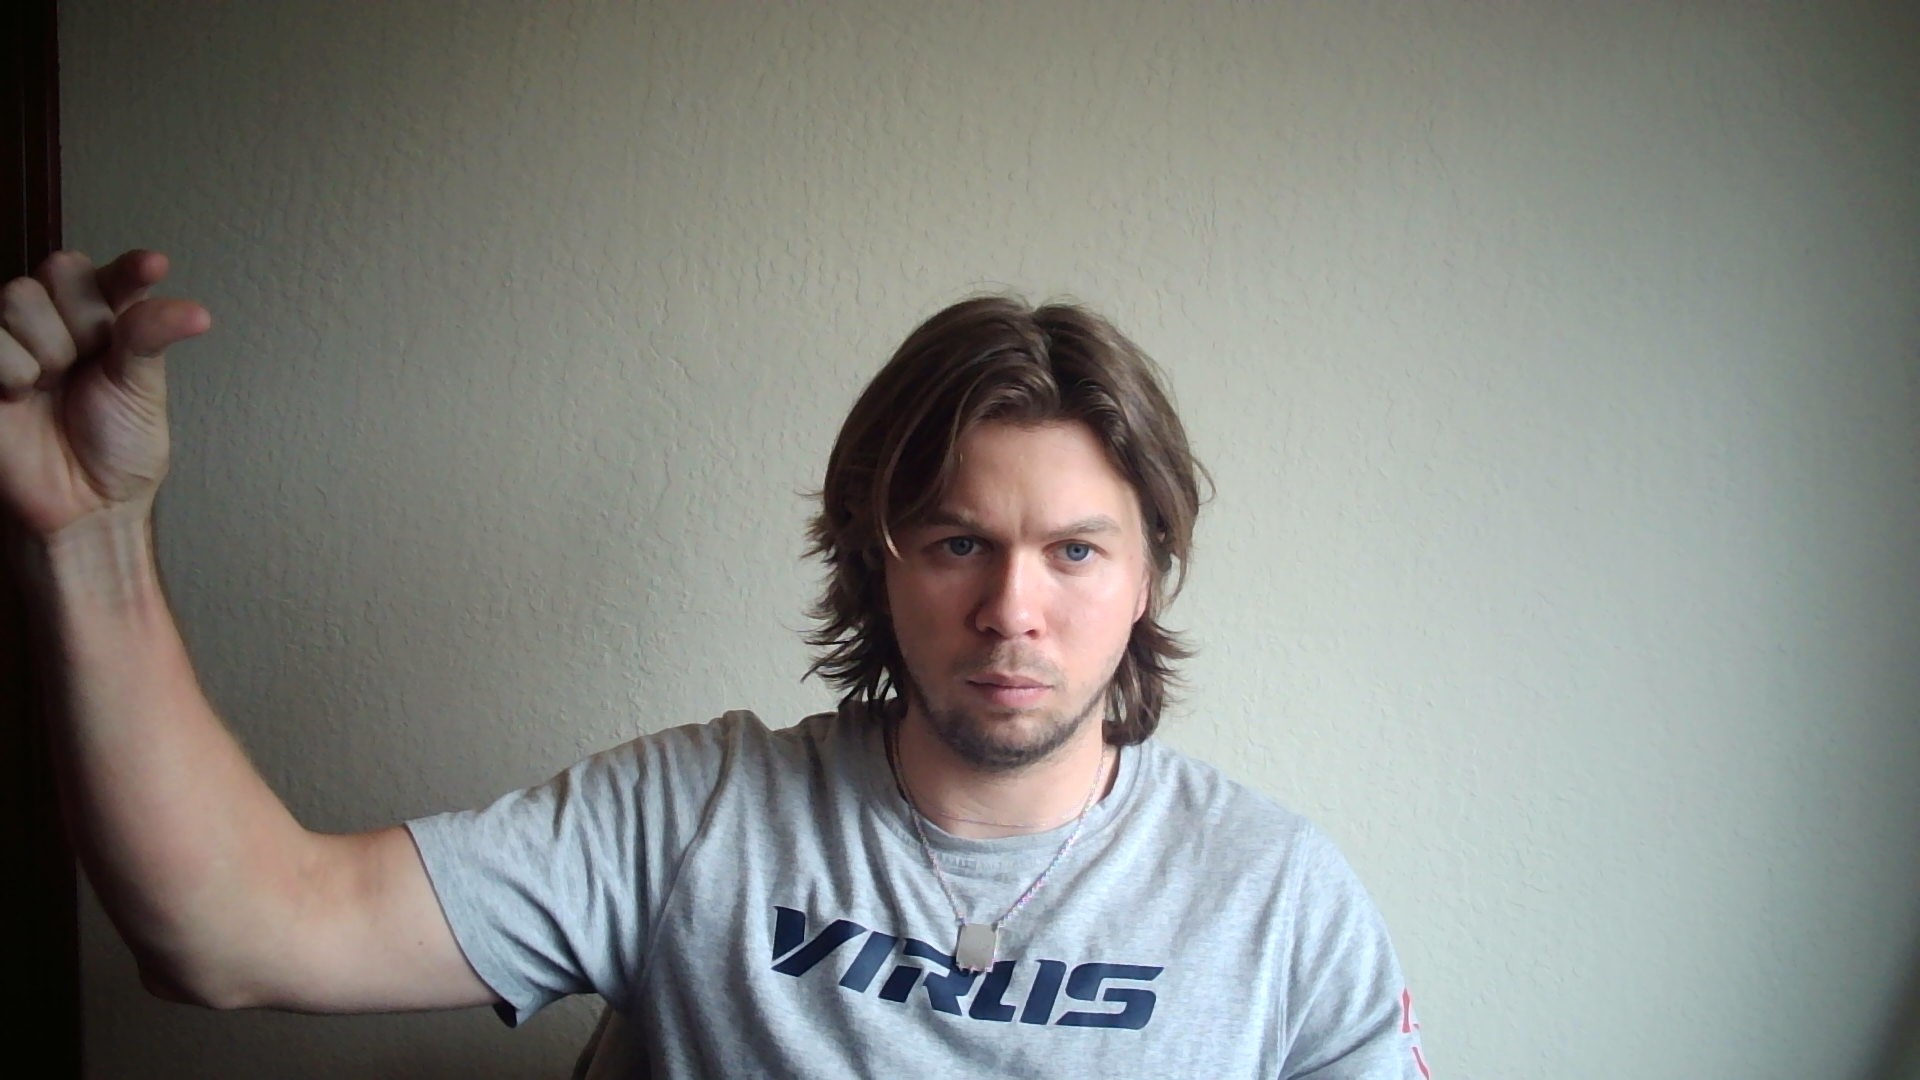small: (1, 239, 212, 526)
